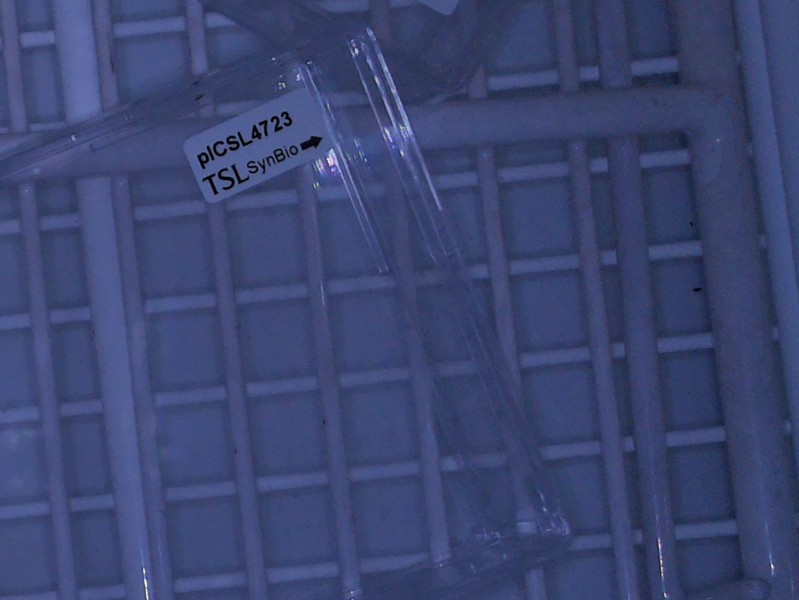plate: (1, 21, 574, 600), (213, 1, 514, 106)
